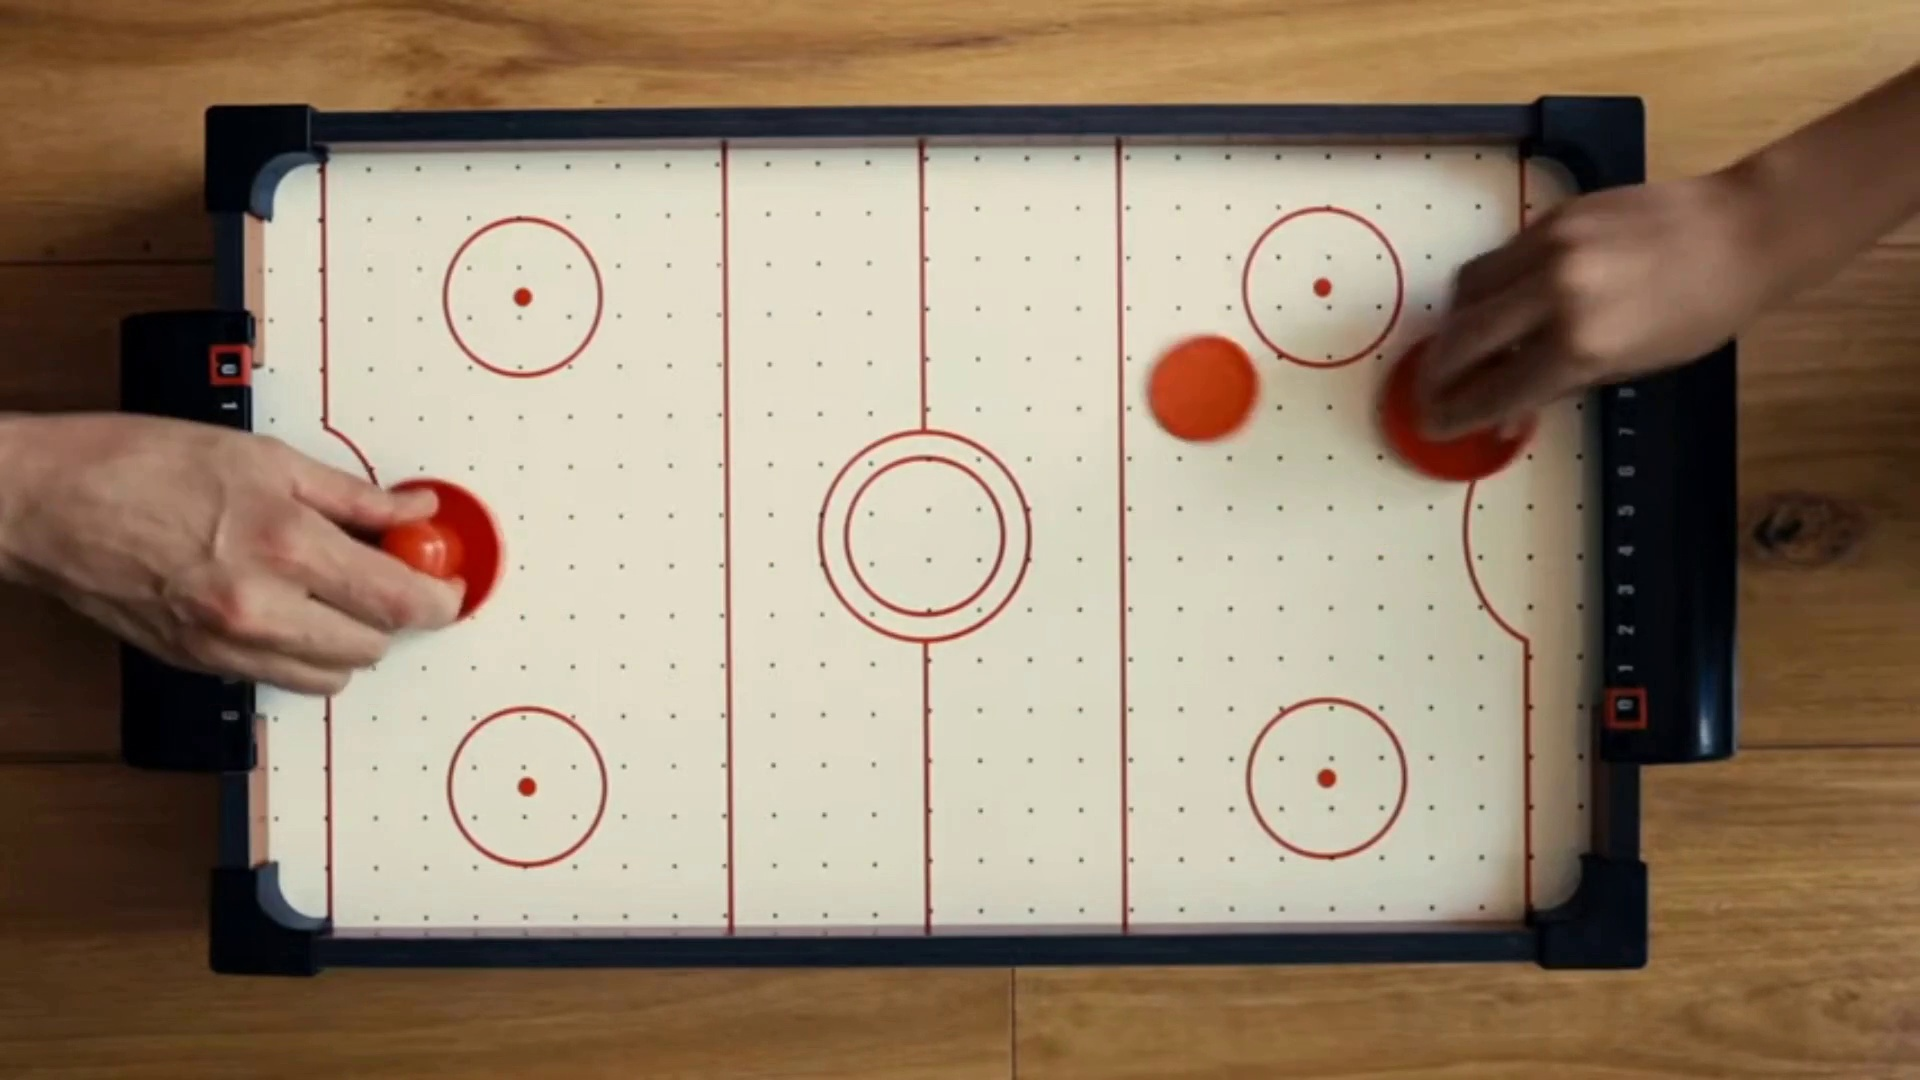player1: (357, 480, 505, 626)
player2: (1378, 333, 1535, 485)
puck: (1142, 334, 1260, 445)
table: (263, 155, 1581, 926)
